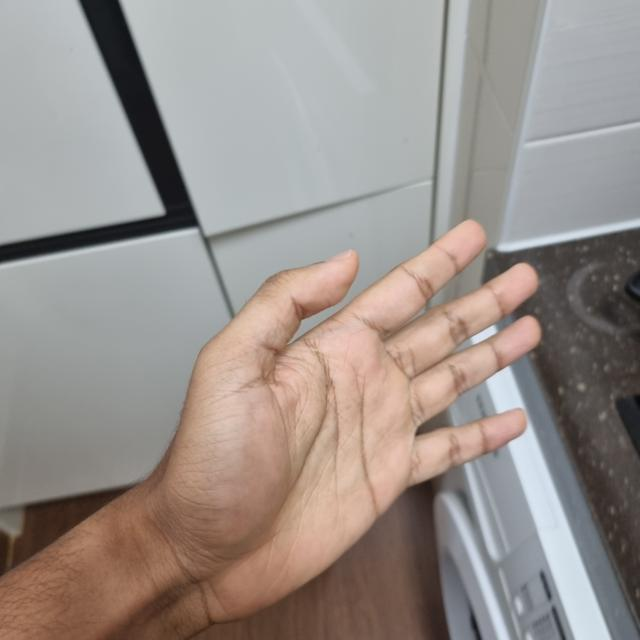Paper: (156, 221, 544, 608)
